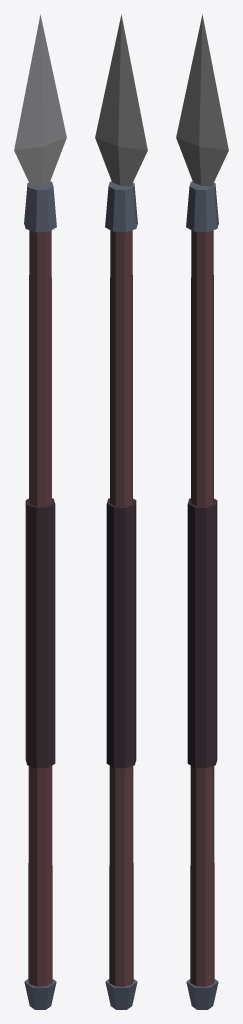
File: spear.glb
The picture shows the model from 3 angles, left to right: view 1: azimuth 30°, elevation 25°; view 2: azimuth 150°, elevation 25°; view 3: azimuth 330°, elevation 25°; orthographic projection.
Parts seen in each view (by area): view 1: Cone; view 2: Cone; view 3: Cone.
Boxes of the visible parts, x1=… form: Cone: x1=14, y1=14, x2=66, y2=1009; Cone: x1=95, y1=14, x2=147, y2=1009; Cone: x1=176, y1=14, x2=228, y2=1009.
Size of the model in its own units: 0.34 by 6.1 by 0.19.
